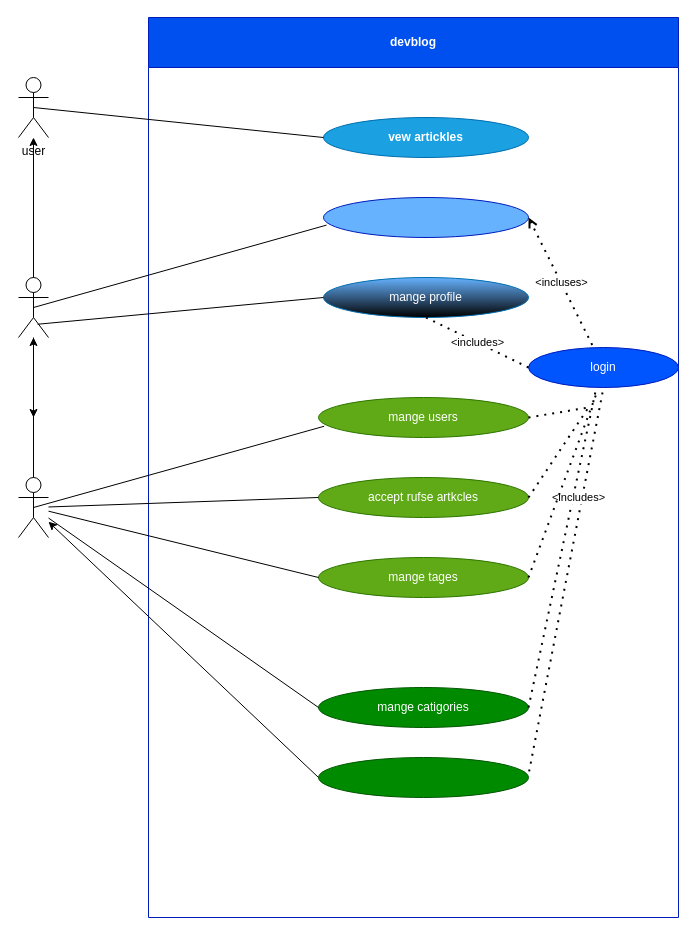
Image size: 696x935. Some labels were removed from this diagram. Each missing label, with the centre of its shape:
actrur: the point at 33,307
admin: the point at 33,507
mange artickles: the point at 425,217
vew statisteks: the point at 423,777
